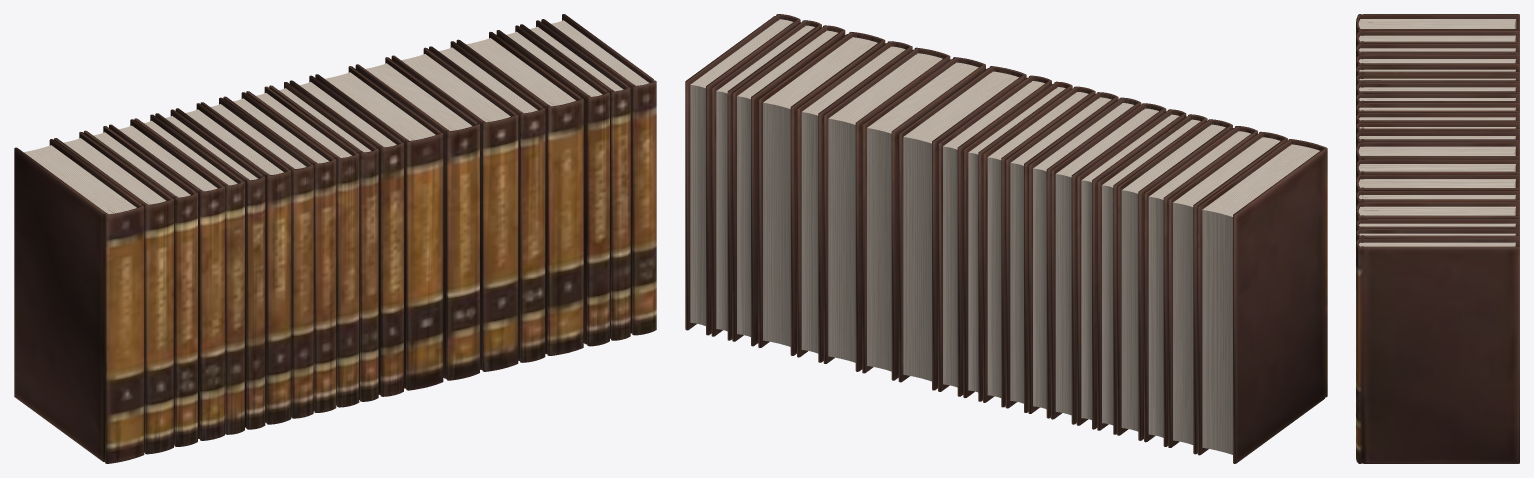
File: book_encyclopedia_set_01_512.glb
The picture shows the model from 3 angles, left to right: view 1: azimuth 30°, elevation 25°; view 2: azimuth 150°, elevation 25°; view 3: azimuth 270°, elevation 25°; orthographic projection. The views are drawn at different scales.
Visible parts, largest first — view 1: book_encyclopedia_set_01_book01, book_encyclopedia_set_01_book13, book_encyclopedia_set_01_book15, book_encyclopedia_set_01_book17, book_encyclopedia_set_01_book14, book_encyclopedia_set_01_book02, book_encyclopedia_set_01_book16, book_encyclopedia_set_01_book04, book_encyclopedia_set_01_book18, book_encyclopedia_set_01_book20, book_encyclopedia_set_01_book07, book_encyclopedia_set_01_book12 (+8 smaller); view 2: book_encyclopedia_set_01_book01, book_encyclopedia_set_01_book13, book_encyclopedia_set_01_book15, book_encyclopedia_set_01_book17, book_encyclopedia_set_01_book14, book_encyclopedia_set_01_book02, book_encyclopedia_set_01_book04, book_encyclopedia_set_01_book16, book_encyclopedia_set_01_book20, book_encyclopedia_set_01_book18, book_encyclopedia_set_01_book07, book_encyclopedia_set_01_book12 (+8 smaller); view 3: book_encyclopedia_set_01_book20, book_encyclopedia_set_01_book13, book_encyclopedia_set_01_book01, book_encyclopedia_set_01_book17, book_encyclopedia_set_01_book15, book_encyclopedia_set_01_book14, book_encyclopedia_set_01_book02, book_encyclopedia_set_01_book16, book_encyclopedia_set_01_book03, book_encyclopedia_set_01_book12, book_encyclopedia_set_01_book04, book_encyclopedia_set_01_book07 (+8 smaller).
Part boxes in pixels (x1,y1,x2,y2): book_encyclopedia_set_01_book01: (14,139,144,463); book_encyclopedia_set_01_book13: (315,66,443,390); book_encyclopedia_set_01_book15: (391,47,518,371); book_encyclopedia_set_01_book17: (456,31,583,355); book_encyclopedia_set_01_book14: (355,57,479,380); book_encyclopedia_set_01_book02: (54,132,173,454); book_encyclopedia_set_01_book16: (429,41,545,362); book_encyclopedia_set_01_book04: (109,119,224,440); book_encyclopedia_set_01_book18: (496,25,609,346); book_encyclopedia_set_01_book20: (541,14,656,335); book_encyclopedia_set_01_book07: (175,103,291,424); book_encyclopedia_set_01_book12: (289,75,403,396); book_encyclopedia_set_01_book01: (1197,139,1327,463); book_encyclopedia_set_01_book13: (898,66,1026,390); book_encyclopedia_set_01_book15: (823,47,950,371); book_encyclopedia_set_01_book17: (758,32,885,355); book_encyclopedia_set_01_book14: (862,57,985,380); book_encyclopedia_set_01_book02: (1168,131,1287,454); book_encyclopedia_set_01_book04: (1117,119,1232,440); book_encyclopedia_set_01_book16: (797,41,912,362); book_encyclopedia_set_01_book20: (685,14,800,335); book_encyclopedia_set_01_book18: (732,25,845,346); book_encyclopedia_set_01_book07: (1051,103,1166,424); book_encyclopedia_set_01_book12: (938,75,1051,396); book_encyclopedia_set_01_book20: (1356,238,1519,463); book_encyclopedia_set_01_book13: (1356,142,1519,165); book_encyclopedia_set_01_book01: (1356,14,1519,35); book_encyclopedia_set_01_book17: (1356,202,1519,221); book_encyclopedia_set_01_book15: (1356,174,1519,194); book_encyclopedia_set_01_book14: (1356,159,1519,180); book_encyclopedia_set_01_book02: (1356,30,1519,47); book_encyclopedia_set_01_book16: (1356,190,1519,222); book_encyclopedia_set_01_book03: (1356,43,1519,58); book_encyclopedia_set_01_book12: (1356,131,1519,149); book_encyclopedia_set_01_book04: (1356,54,1519,70); book_encyclopedia_set_01_book07: (1356,82,1519,96).
Size of the model in its own units: 0.5513 by 0.2374 by 0.1631.
Materials: 2 (2 with a texture image).
